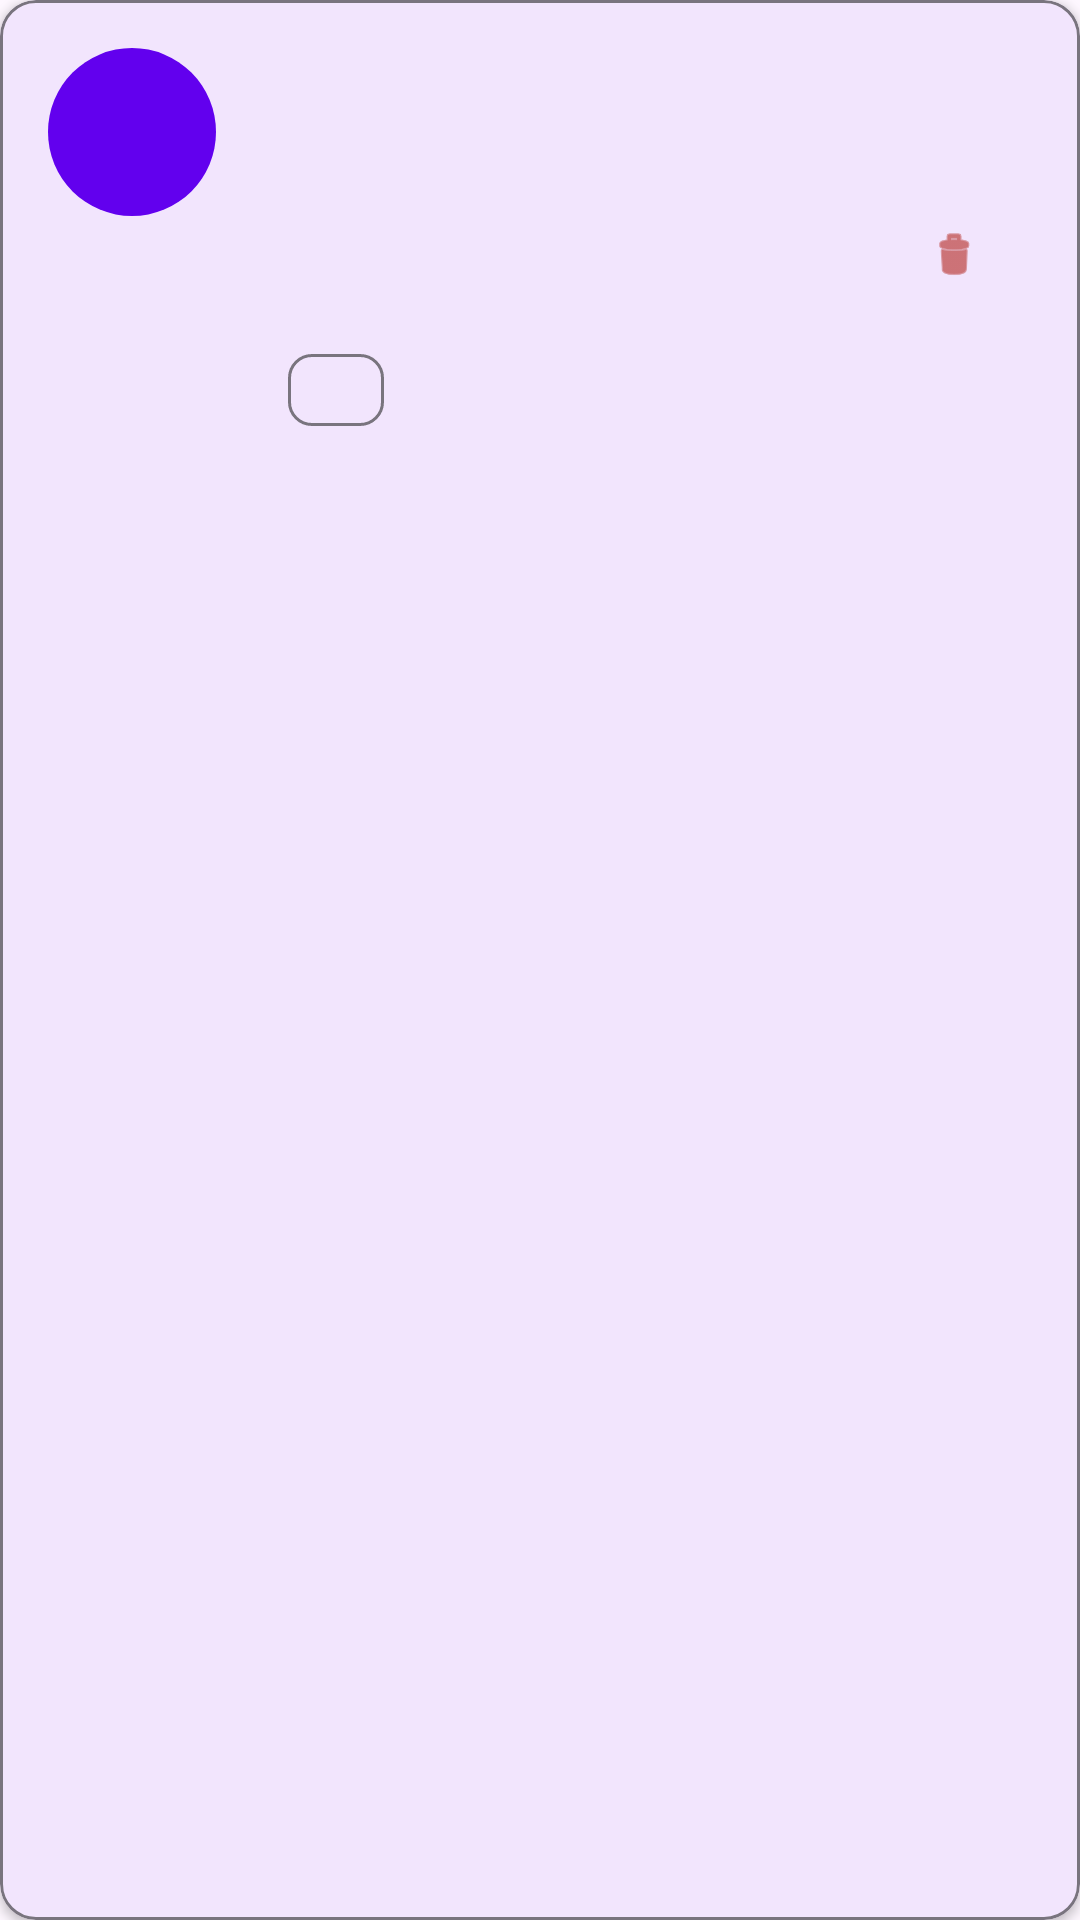

Icon click points for this 1080×1920 phone screenshot, format point (x, y):
Delete user: point (954, 254)
